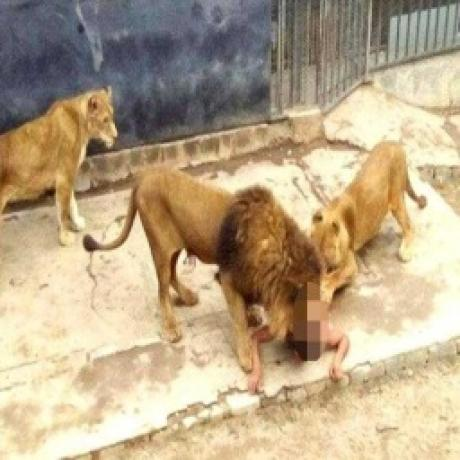Lion: (78, 168, 318, 371), (0, 82, 117, 234), (309, 138, 435, 273)
